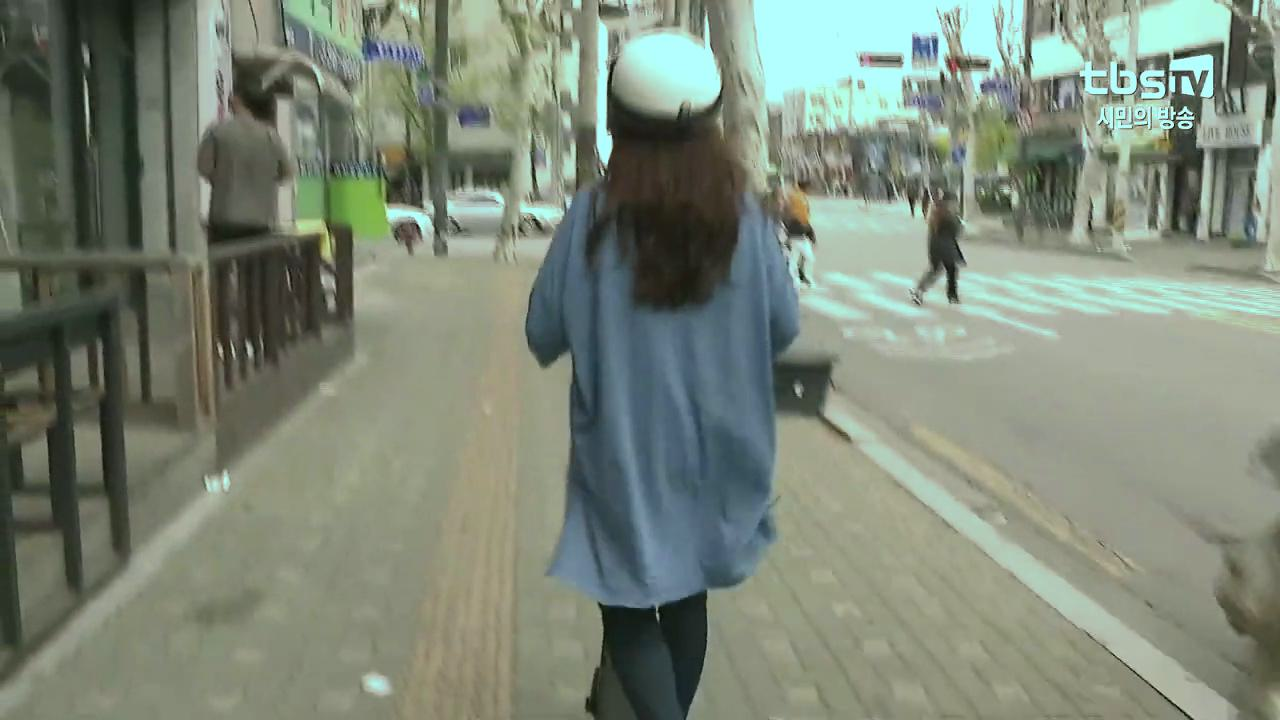helmet: (519, 27, 810, 720)
